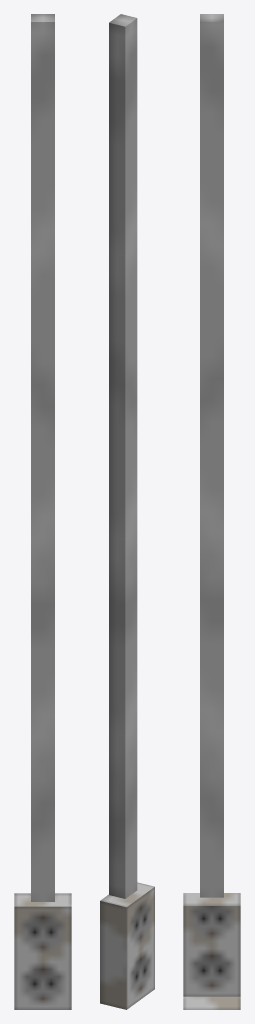
Rendered from obj_socket_v1_20.fbx.
The picture shows the model from 3 angles, left to right: view 1: azimuth 90°, elevation 25°; view 2: azimuth 150°, elevation 25°; view 3: azimuth 270°, elevation 25°; orthographic projection.
Parts seen in each view (by area): view 1: obj_socket_v1_20; view 2: obj_socket_v1_20; view 3: obj_socket_v1_20.
Boxes of the visible parts, x1,y1,x2,y2 form: obj_socket_v1_20: [14, 14, 71, 1009]; obj_socket_v1_20: [100, 14, 154, 1009]; obj_socket_v1_20: [183, 14, 240, 1009].
Bounding box in the file's own units: 5.44 × 190 × 10.
